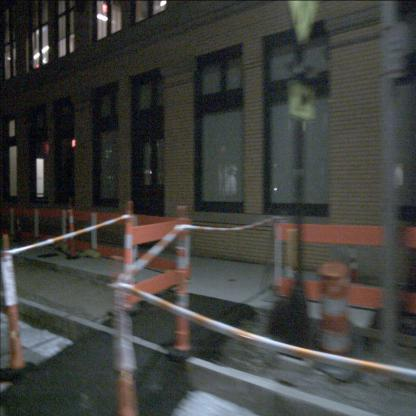barrier: (271, 219, 416, 321), (123, 207, 192, 312), (120, 201, 195, 282), (90, 202, 137, 265), (58, 204, 98, 262), (32, 199, 69, 254), (5, 203, 40, 255)
cone: (106, 269, 142, 416), (0, 222, 32, 384), (315, 256, 355, 371), (172, 238, 194, 357), (347, 232, 362, 297), (66, 199, 78, 263)
